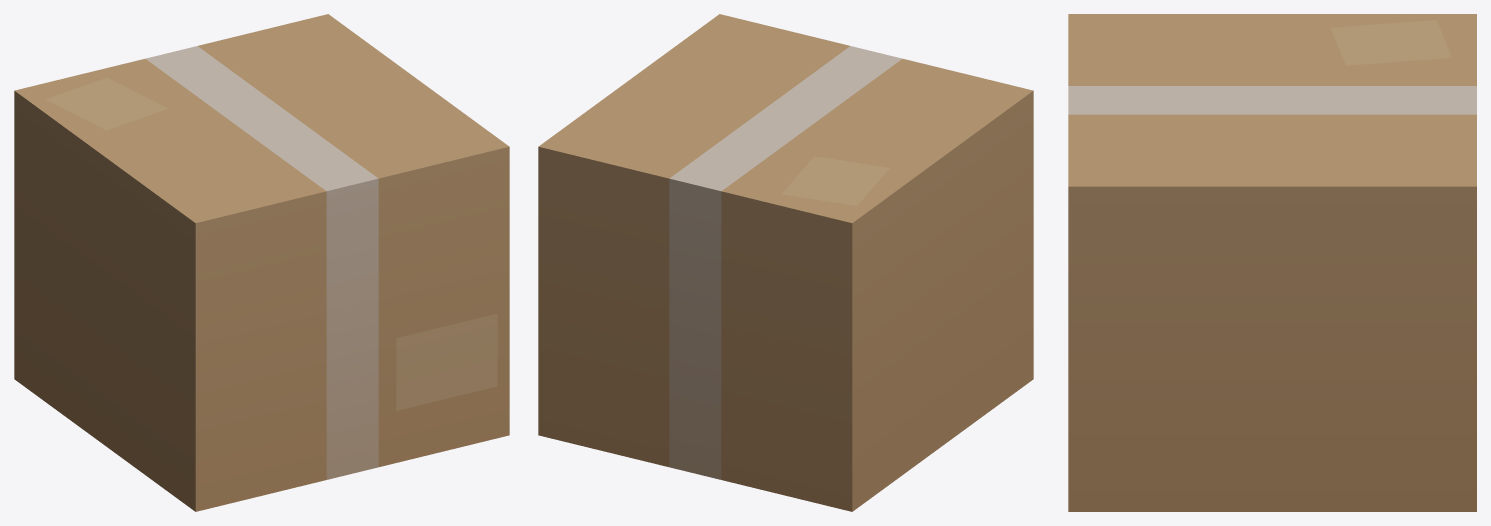
File: city-box-a.glb
3 views of the same model, side by side, from view 1: azimuth 30°, elevation 25°; view 2: azimuth 150°, elevation 25°; view 3: azimuth 270°, elevation 25° (orthographic). The views are drawn at different scales.
Parts seen in each view (by area): view 1: box_A; view 2: box_A; view 3: box_A.
Part boxes in pixels (x1=…): box_A: x1=14, y1=14, x2=509, y2=511; box_A: x1=538, y1=14, x2=1033, y2=511; box_A: x1=1068, y1=14, x2=1476, y2=511.
Bounding box in the file's own units: 0.2 × 0.1764 × 0.2031.
